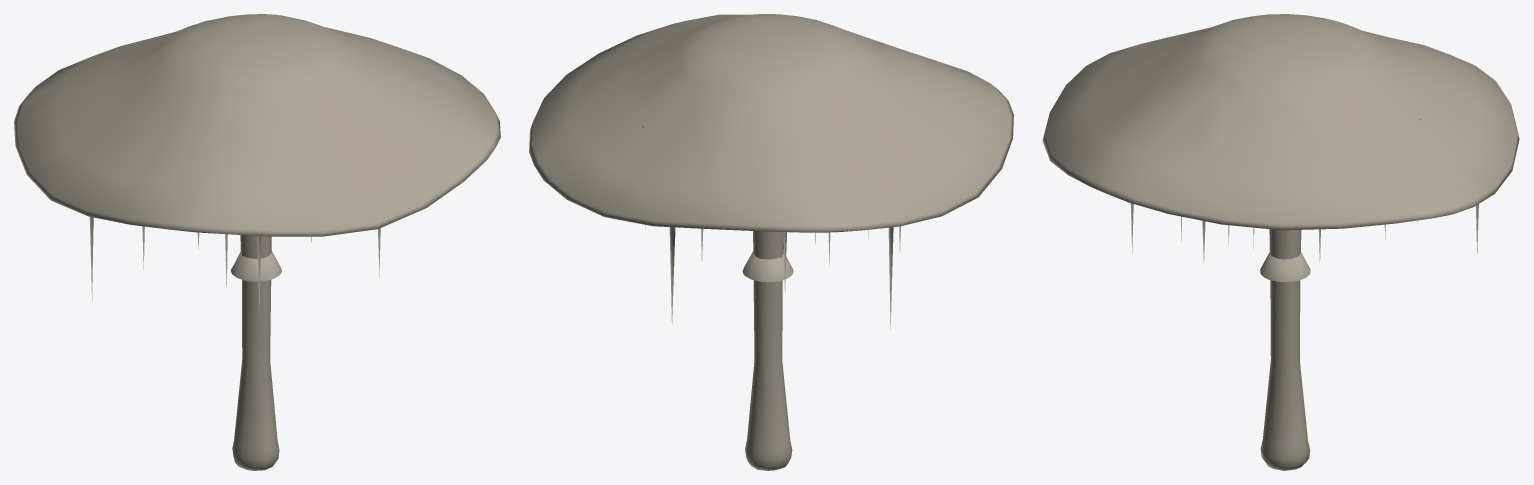
Rendered from shroomUmbrella-compressed.glb.
3 views of the same model, side by side, from view 1: azimuth 30°, elevation 25°; view 2: azimuth 150°, elevation 25°; view 3: azimuth 270°, elevation 25° (orthographic).
Parts seen in each view (by area): view 1: shroomUmbrella; view 2: shroomUmbrella; view 3: shroomUmbrella.
Boxes of the visible parts, <box> form: shroomUmbrella: <box>14,14,500,470</box>; shroomUmbrella: <box>529,14,1013,470</box>; shroomUmbrella: <box>1042,14,1519,470</box>.
Bounding box in the file's own units: 0.6602 × 0.65 × 0.6597.
